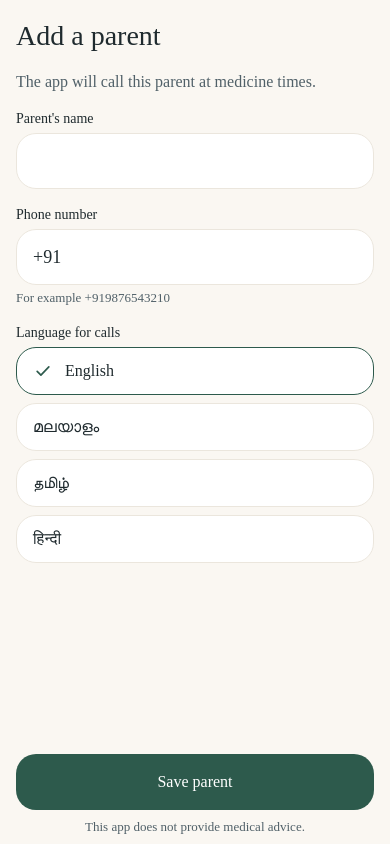
AddParentScreen › does not persist anything when validation fails
Click the button with test id "add-save": point(195, 782) [16, 754, 374, 810]
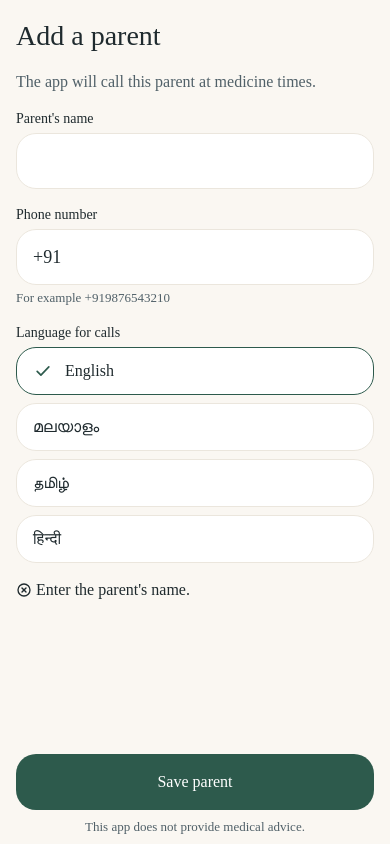
Expected: the element with test id "add-error" is shown, [16, 581, 190, 598]
